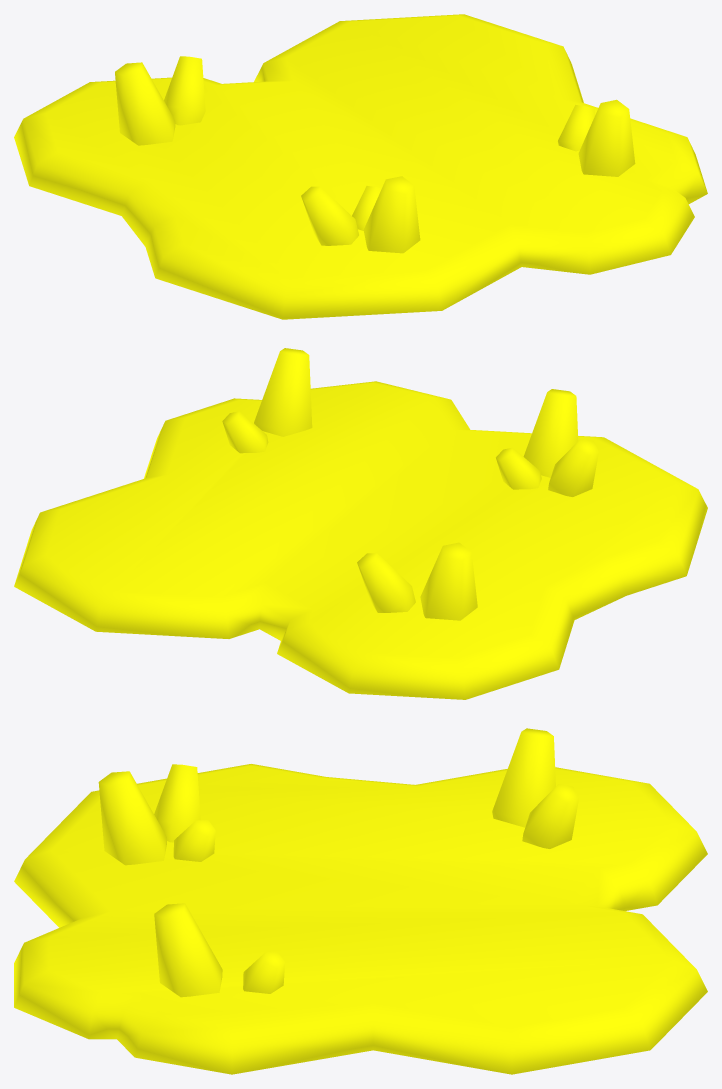
The model's file is _fbx_all_patch-grass.glb.
3 renders of one model, top to bottom at view 1: azimuth 30°, elevation 25°; view 2: azimuth 150°, elevation 25°; view 3: azimuth 270°, elevation 25°, orthographic. The views are drawn at different scales.
Visible parts, largest first — view 1: patch-grass; view 2: patch-grass; view 3: patch-grass.
Boxes of the visible parts, bbox=[...] form: patch-grass: bbox=[14, 14, 707, 319]; patch-grass: bbox=[14, 348, 707, 699]; patch-grass: bbox=[14, 728, 707, 1074].
Bounding box in the file's own units: 1 × 0.171 × 1.
Materials: 1 (1 with a texture image).
